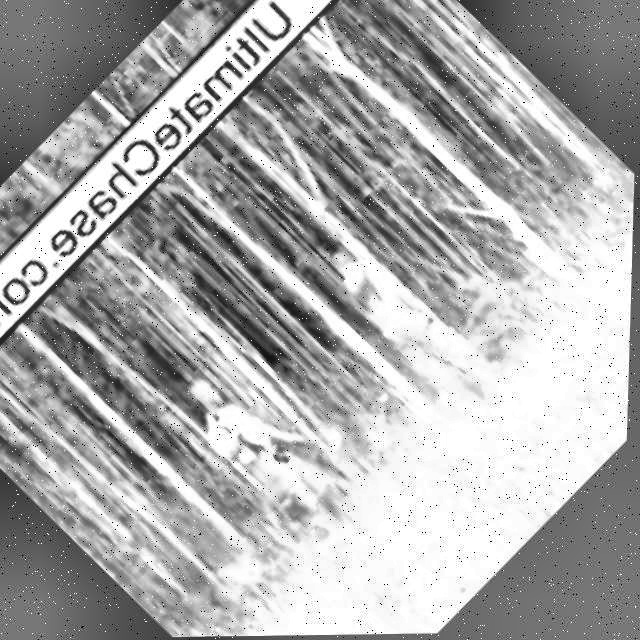Fire: (199, 527, 287, 614)
